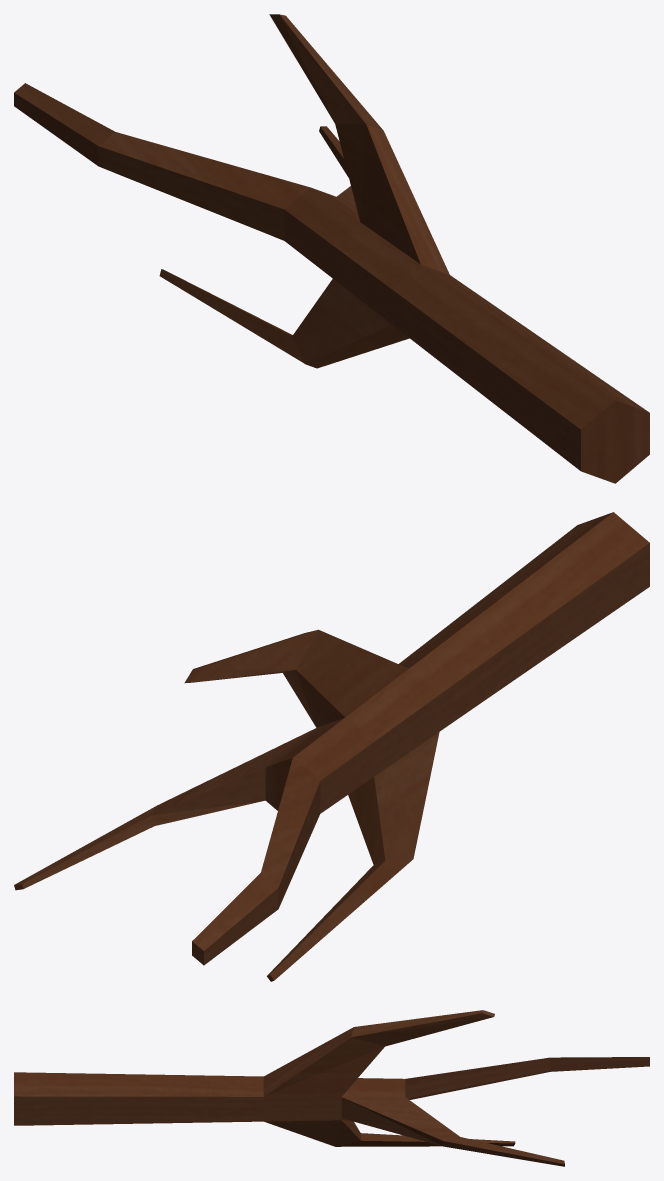
File: tree-trunk-01.obj
The picture shows the model from 3 angles, top to bottom: view 1: azimuth 30°, elevation 25°; view 2: azimuth 150°, elevation 25°; view 3: azimuth 270°, elevation 25°; orthographic projection. The views are drawn at different scales.
Visible parts, largest first — view 1: tree-trunk-01_Circle.027; view 2: tree-trunk-01_Circle.027; view 3: tree-trunk-01_Circle.027.
Boxes of the visible parts, box(x1,y1,x2,y2) form: tree-trunk-01_Circle.027: box(14, 14, 649, 483); tree-trunk-01_Circle.027: box(14, 512, 649, 981); tree-trunk-01_Circle.027: box(14, 1010, 649, 1166).
Size of the model in its own units: 1.8 by 1.8 by 6.28.
